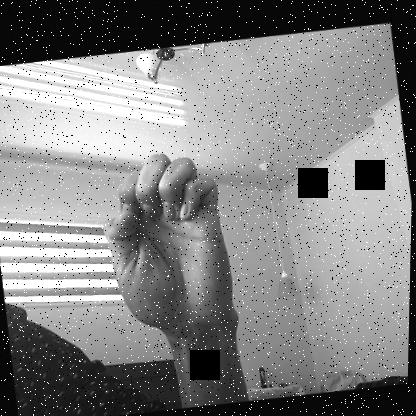E: (93, 142, 245, 344)
